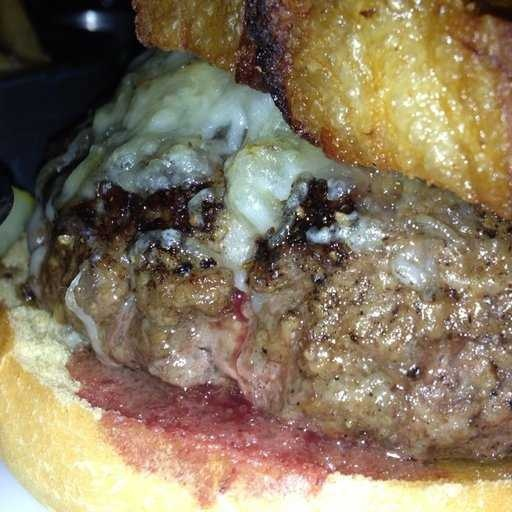hamburger: (16, 7, 507, 507)
